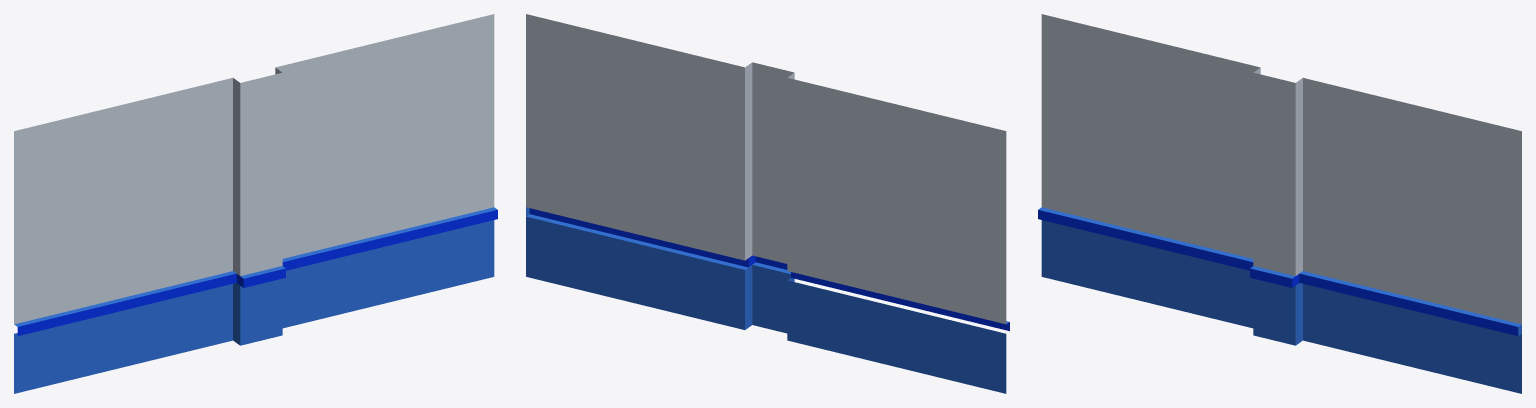
File: Wall.fbx
The picture shows the model from 3 angles, left to right: view 1: azimuth 30°, elevation 25°; view 2: azimuth 150°, elevation 25°; view 3: azimuth 330°, elevation 25°; orthographic projection.
Parts seen in each view (by area): view 1: Room.001; view 2: Room.001; view 3: Room.001.
Boxes of the visible parts, x1,y1,x2,y2 form: Room.001: [14, 14, 497, 393]; Room.001: [526, 14, 1009, 393]; Room.001: [1038, 14, 1521, 393].
Size of the model in its own units: 2000 by 1046 by 76.47.
